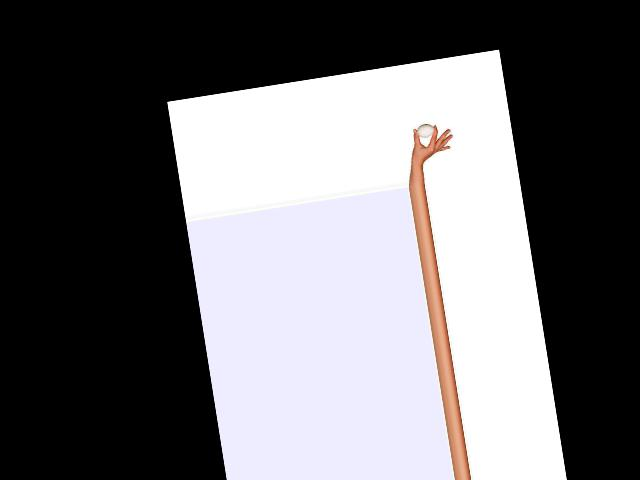egg: (415, 122, 434, 138)
